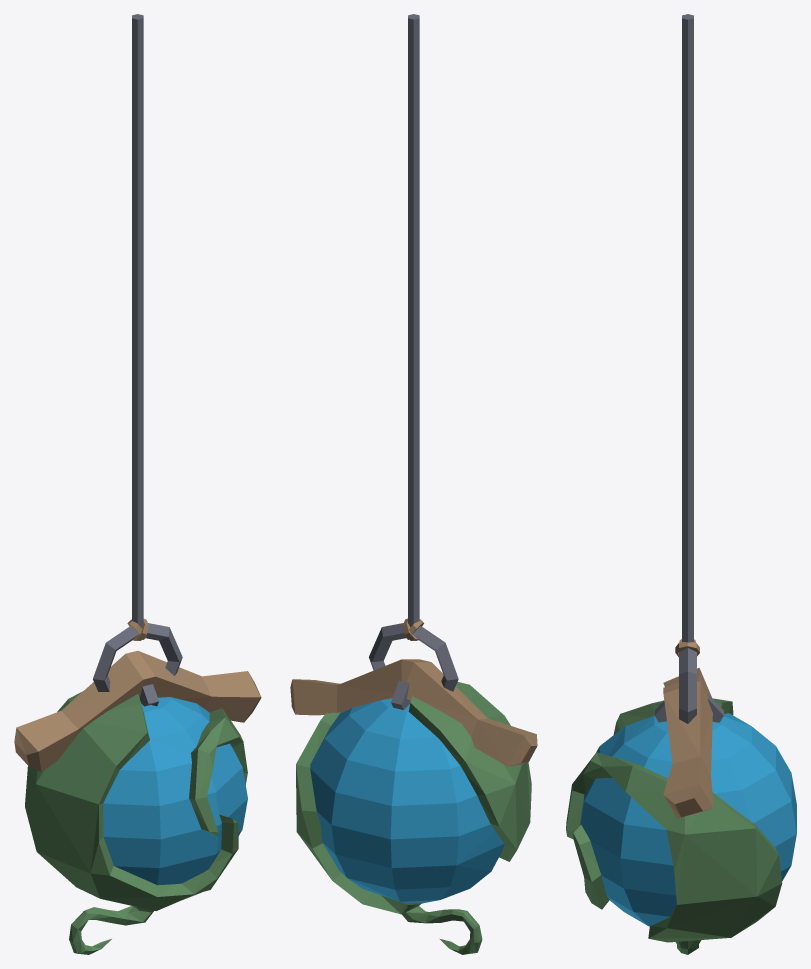
Rendered from _lamp_1.fbx.
The picture shows the model from 3 angles, left to right: view 1: azimuth 30°, elevation 25°; view 2: azimuth 150°, elevation 25°; view 3: azimuth 270°, elevation 25°; orthographic projection. The views are drawn at different scales.
Visible parts, largest first — view 1: lamp_1; view 2: lamp_1; view 3: lamp_1.
Part boxes in pixels (x1,y1,x2,y2): lamp_1: (14,14,261,954); lamp_1: (290,14,537,954); lamp_1: (566,14,796,954).
Bounding box in the file's own units: 54.12 × 199 × 43.52.
